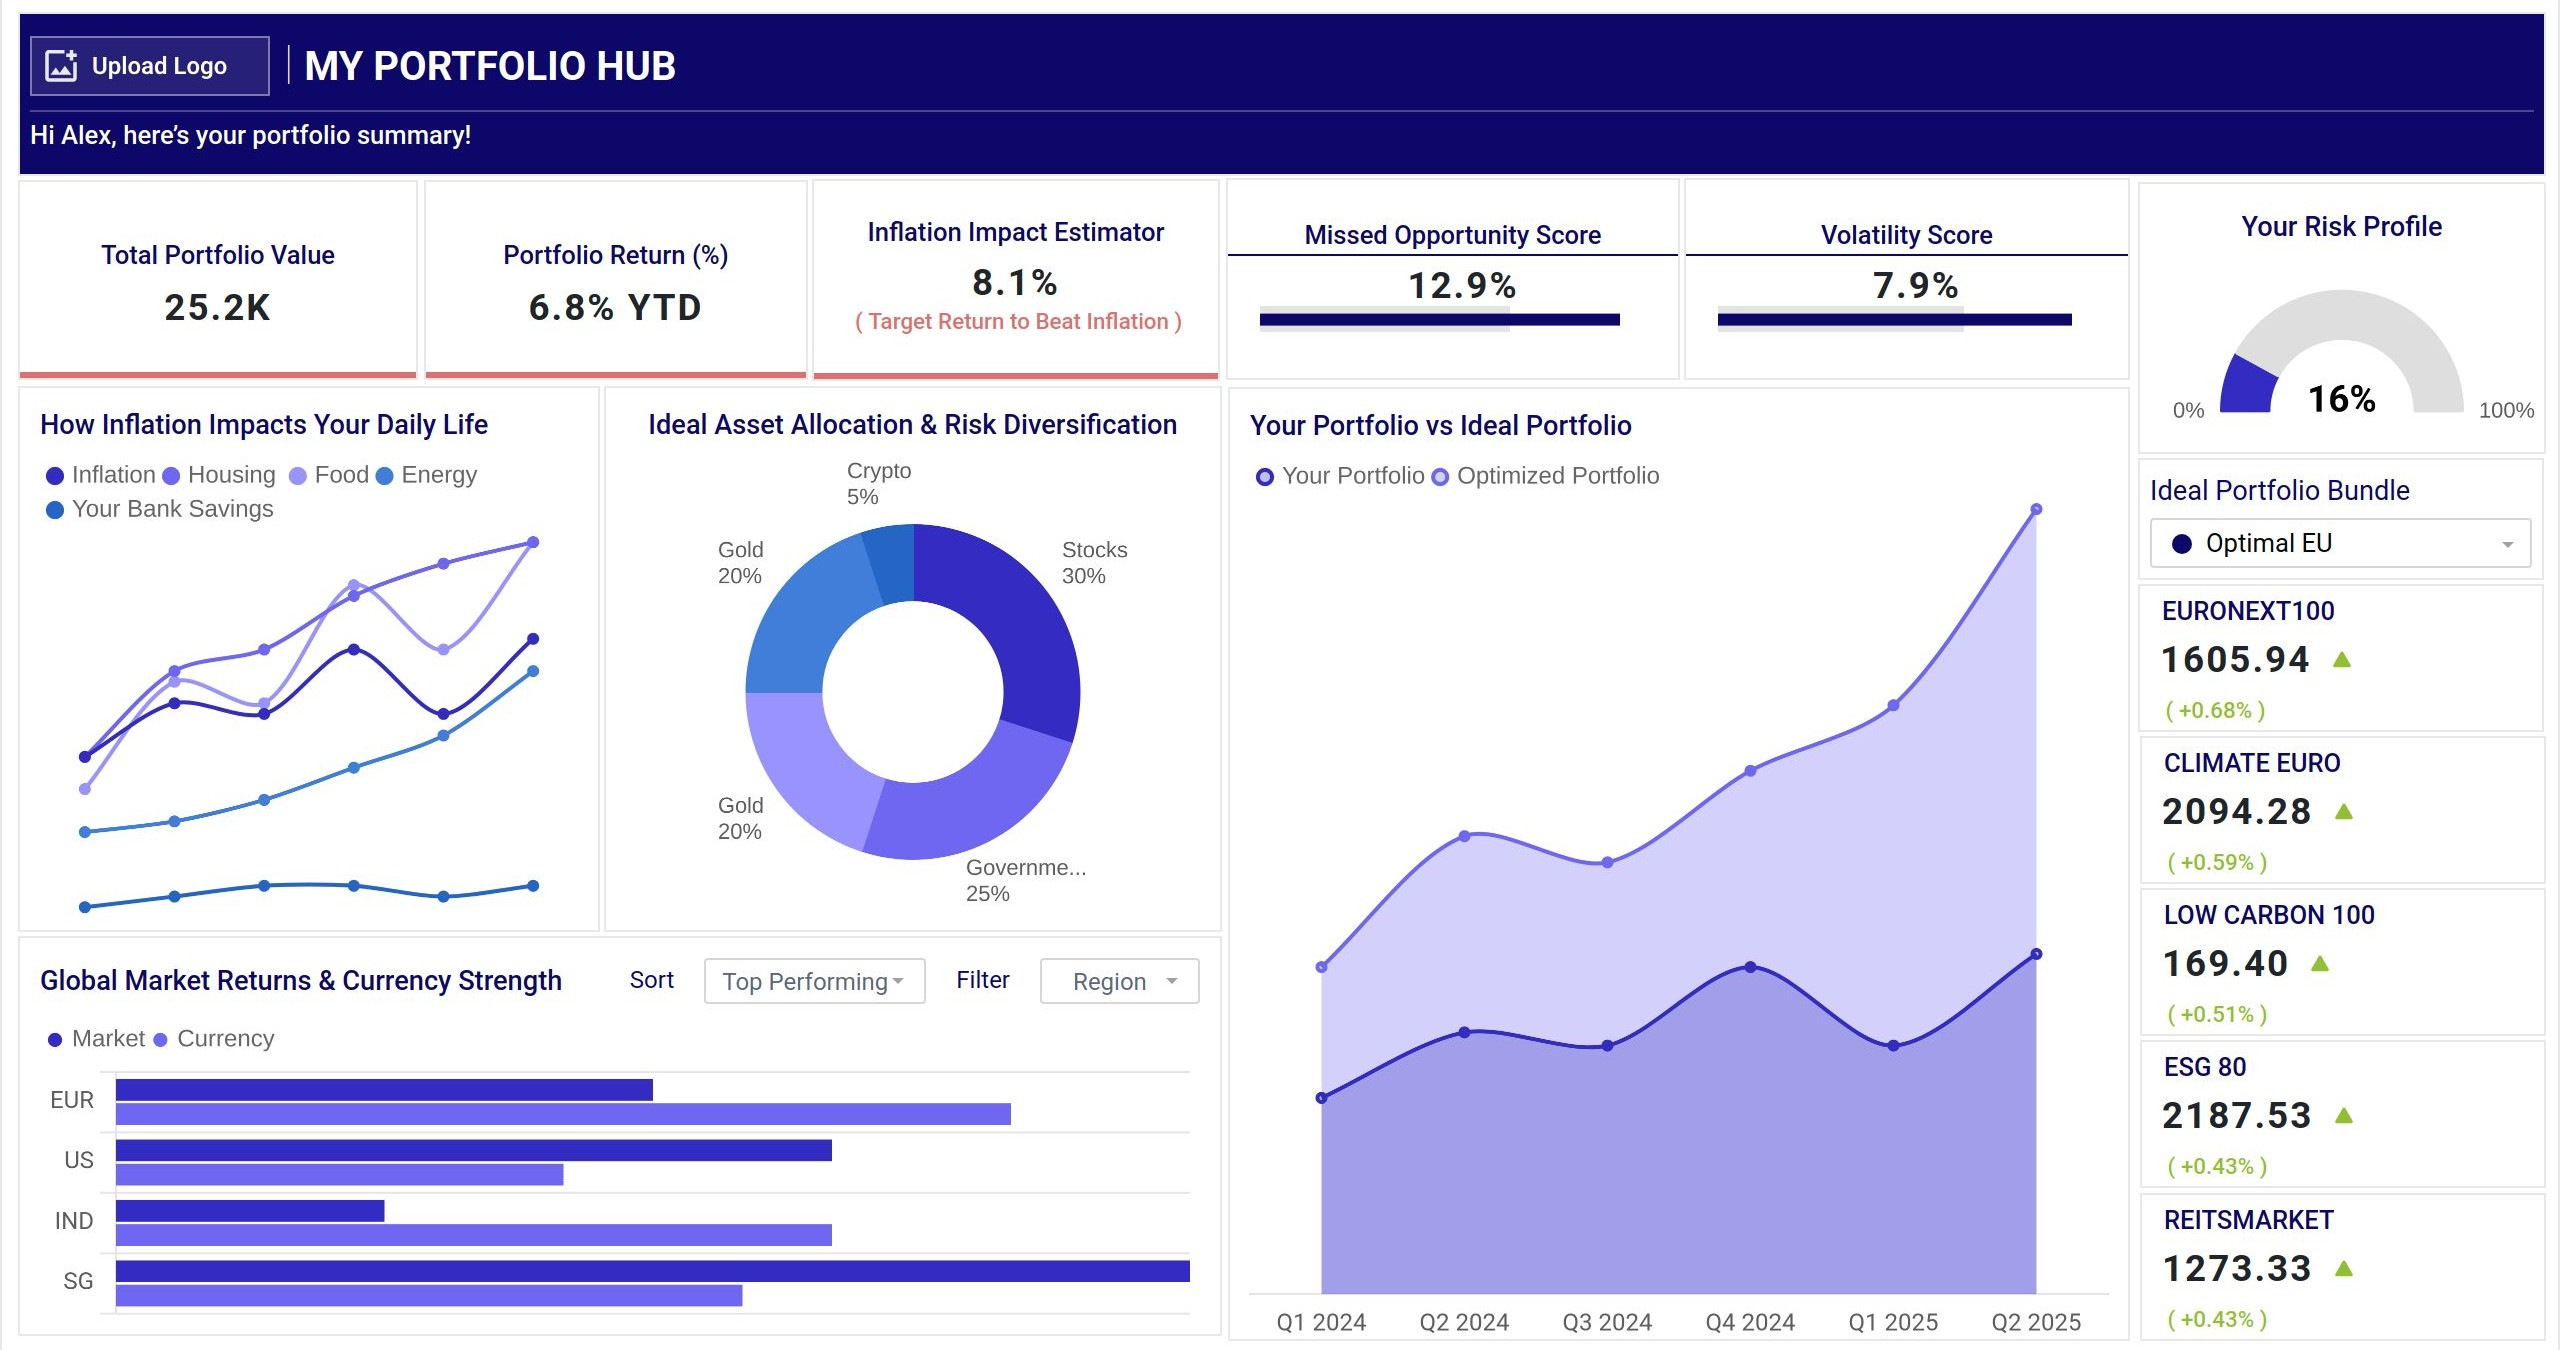

The page's visual inventory and layout, read from the dashboard file:
{"tool":"tableau","page":{"name":"Dashboard Draft","canvas":[2700,1500],"ordinal":0},"visuals":[{"type":"worksheet","title":"Current Savings","mark":"Automatic","box":[18,15,431,217]},{"type":"worksheet","title":"Percentage Growth","mark":"Automatic","box":[449,15,431,217]},{"type":"worksheet","title":"Risk Appetite","mark":"Pie","box":[869,15,454,459]},{"type":"worksheet","title":"Ideal Diversification","mark":"Pie","box":[1323,15,454,459]},{"type":"worksheet","title":"Unrealised Potential","mark":"Automatic","box":[1760,20,688,218]},{"type":"text","box":[123,248,630,67]},{"type":"worksheet","title":"Stock Trends","mark":"Automatic","rows":["NFLX_CLOSE","AVGO_CLOSE","TSLA_CLOSE","NVDA_CLOSE","AMD_CLOSE"],"cols":["Date (NASDAQ_100_top_performers.csv)"],"box":[1776,259,656,1169]},{"type":"worksheet","title":"Energy Growth","mark":"Automatic","box":[15,280,281,186]},{"type":"worksheet","title":"Food Growth","mark":"Automatic","box":[296,280,281,186]},{"type":"worksheet","title":"Housing Growth","mark":"Automatic","box":[577,280,281,186]},{"type":"text","box":[37,430,790,28]},{"type":"worksheet","title":"Inflation","mark":"Line","rows":["Percentage_Growth"],"cols":["Date (US_inflation_index.csv)"],"box":[19,476,875,950]},{"type":"worksheet","title":"Your Portfoilo VS Optimized Portfoilo","mark":"Automatic","rows":["Calculation_1958784398888087552","Savings"],"cols":["Date (Top_performers_Portfolio_Growth.csv)"],"box":[894,476,874,950]},{"type":"text","box":[1900,540,530,20]},{"type":"legend","title":"Inflation","param":"[federated.02bxoga0zmbbb219s7n8g0bmmipr].[:Measure Names]","box":[32,555,326,153]},{"type":"legend","title":"Your Portfoilo VS Optimized Portfoilo","param":"[federated.02bxoga0zmbbb219s7n8g0bmmipr].[:Measure Names]","box":[1032,555,249,85]},{"type":"text","box":[1900,739,527,25]},{"type":"text","box":[1898,941,527,25]},{"type":"text","box":[1905,1144,527,25]},{"type":"legend","title":"Stock Trends","param":"[federated.02bxoga0zmbbb219s7n8g0bmmipr].[none:Type:nk]","box":[2288,1261,140,85]},{"type":"text","box":[1901,1348,527,25]}]}

Visuals, with their boxes on the page's 2700x1500 design canvas (x1, y1, x2, y2). These are canvas units, not pixel positions in the 2560x1350 screenshot, which may show the page scaled, cropped or inside an application window:
"Current Savings" worksheet: [x1=18, y1=15, x2=449, y2=232]
"Percentage Growth" worksheet: [x1=449, y1=15, x2=880, y2=232]
"Risk Appetite" worksheet (Pie marks): [x1=869, y1=15, x2=1323, y2=474]
"Ideal Diversification" worksheet (Pie marks): [x1=1323, y1=15, x2=1777, y2=474]
"Unrealised Potential" worksheet: [x1=1760, y1=20, x2=2448, y2=238]
text: [x1=123, y1=248, x2=753, y2=315]
"Stock Trends" worksheet: [x1=1776, y1=259, x2=2432, y2=1428]
"Energy Growth" worksheet: [x1=15, y1=280, x2=296, y2=466]
"Food Growth" worksheet: [x1=296, y1=280, x2=577, y2=466]
"Housing Growth" worksheet: [x1=577, y1=280, x2=858, y2=466]
text: [x1=37, y1=430, x2=827, y2=458]
"Inflation" worksheet (Line marks): [x1=19, y1=476, x2=894, y2=1426]
"Your Portfoilo VS Optimized Portfoilo" worksheet: [x1=894, y1=476, x2=1768, y2=1426]
text: [x1=1900, y1=540, x2=2430, y2=560]
"Inflation" legend: [x1=32, y1=555, x2=358, y2=708]
"Your Portfoilo VS Optimized Portfoilo" legend: [x1=1032, y1=555, x2=1281, y2=640]
text: [x1=1900, y1=739, x2=2427, y2=764]
text: [x1=1898, y1=941, x2=2425, y2=966]
text: [x1=1905, y1=1144, x2=2432, y2=1169]
"Stock Trends" legend: [x1=2288, y1=1261, x2=2428, y2=1346]
text: [x1=1901, y1=1348, x2=2428, y2=1373]
